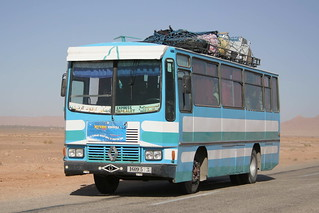bus: (62, 43, 280, 194)
